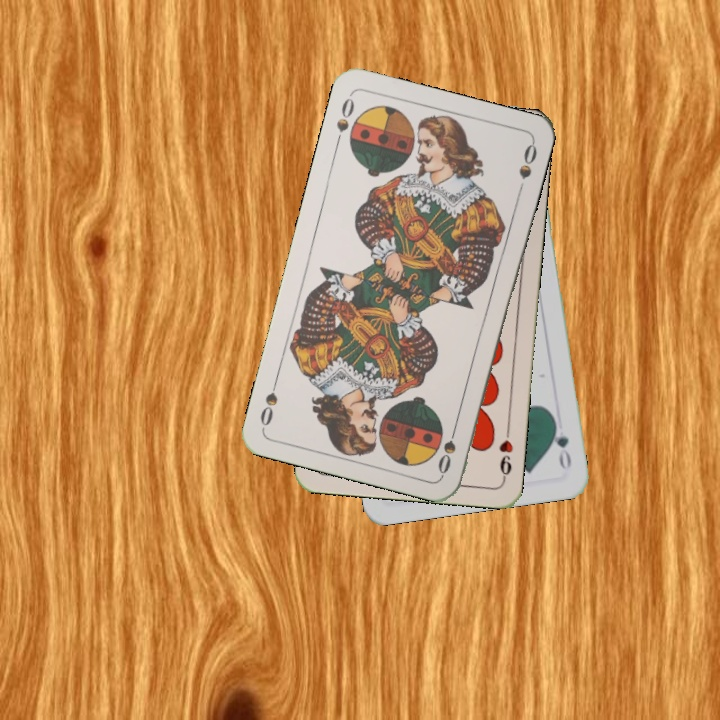GO: (548, 415, 574, 472)
H9: (495, 423, 516, 483)
SO: (433, 419, 460, 477), (331, 91, 357, 149)
